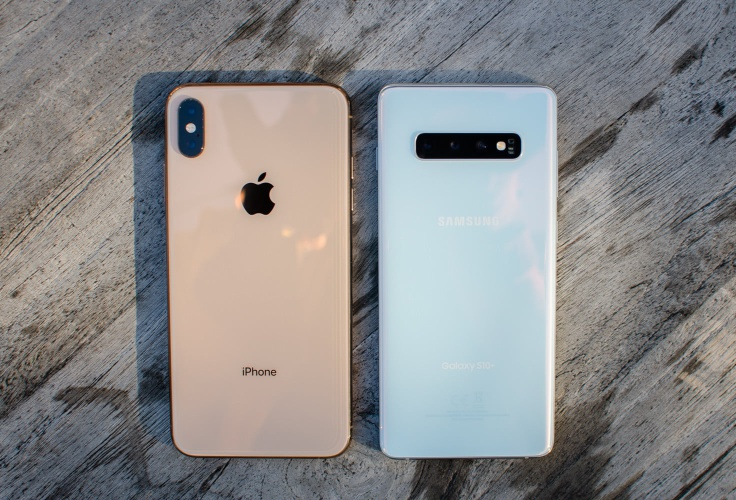apple: (224, 168, 290, 219)
